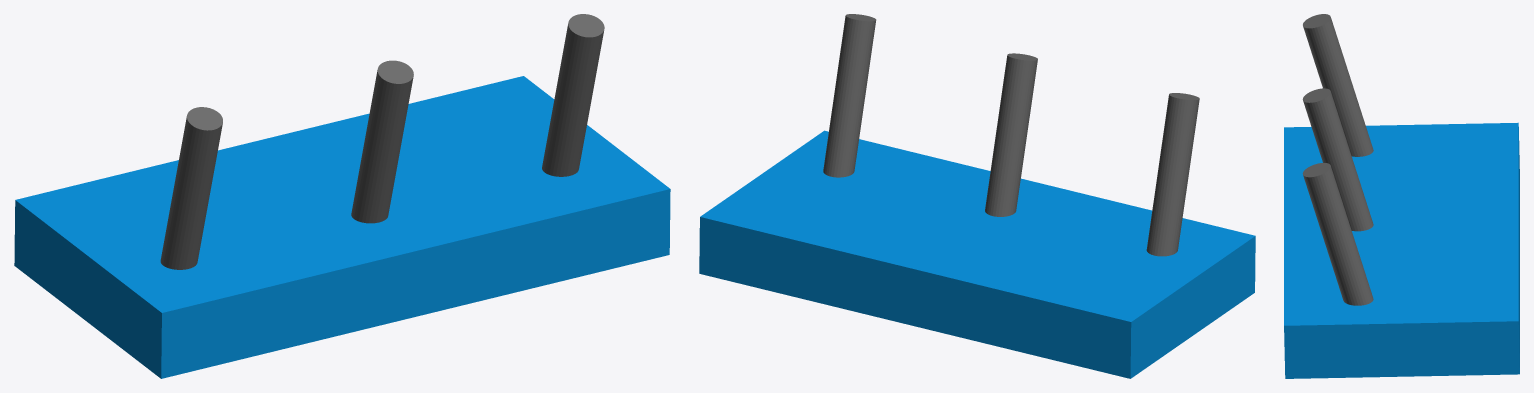
The picture shows the model from 3 angles, left to right: view 1: azimuth 30°, elevation 25°; view 2: azimuth 150°, elevation 25°; view 3: azimuth 270°, elevation 25°; orthographic projection. The views are drawn at different scales.
Parts seen in each view (by area): view 1: Cube; view 2: Cube; view 3: Cube.
Boxes of the visible parts, <box> form: Cube: <box>14,14,670,378</box>; Cube: <box>699,14,1255,378</box>; Cube: <box>1284,14,1519,378</box>.
Bounding box in the file's own units: 800 × 353 × 402.
